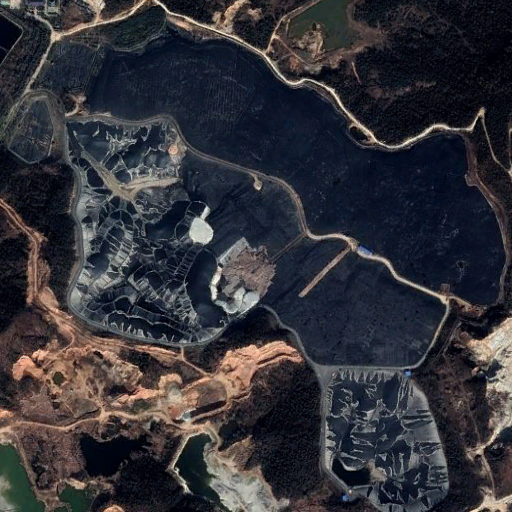lf: (64, 38, 509, 512)
